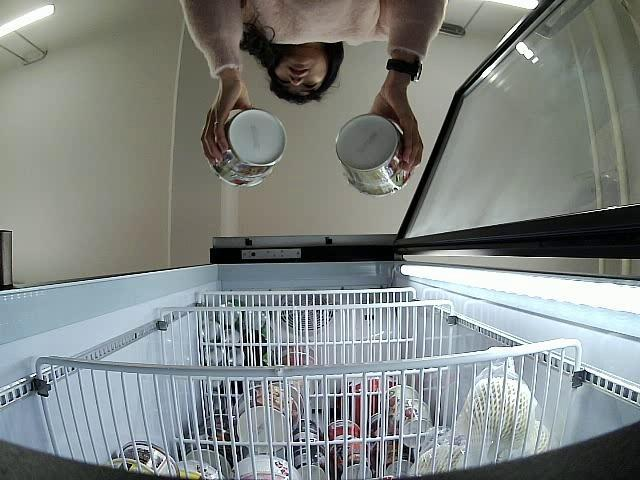03_chapagetti_L: (212, 108, 288, 190), (334, 114, 410, 195)
